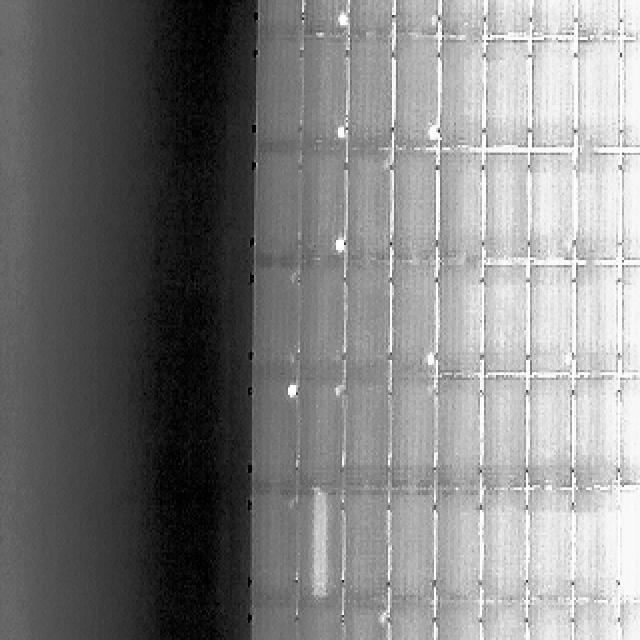Hotspots: (310, 492, 330, 600), (425, 11, 446, 39), (331, 119, 350, 141), (282, 382, 299, 404), (333, 8, 350, 30), (332, 235, 348, 258), (423, 348, 439, 370), (428, 123, 442, 145), (371, 606, 390, 622), (337, 382, 348, 402)
PV-modules: (295, 264, 344, 381), (342, 378, 392, 490), (296, 378, 346, 490), (434, 264, 482, 380), (475, 485, 523, 601), (571, 153, 620, 266), (390, 487, 438, 602), (570, 267, 618, 382), (394, 36, 442, 150), (345, 38, 393, 152), (342, 151, 390, 265), (480, 376, 528, 490), (351, 264, 397, 382), (256, 34, 302, 152), (295, 492, 343, 605), (302, 38, 350, 151), (436, 490, 483, 605), (392, 264, 438, 381), (255, 152, 302, 266), (481, 153, 529, 264), (393, 151, 440, 264), (253, 378, 300, 491), (573, 39, 619, 154), (484, 38, 531, 150), (531, 153, 578, 265), (572, 490, 618, 604), (436, 152, 482, 266), (532, 39, 578, 153), (528, 490, 574, 604), (254, 268, 300, 381), (478, 266, 524, 379), (437, 376, 483, 489), (530, 266, 576, 379), (528, 376, 574, 489), (438, 36, 484, 148), (391, 378, 437, 490), (572, 376, 618, 488), (298, 152, 344, 264), (253, 494, 299, 606), (350, 486, 394, 603), (290, 605, 390, 640), (495, 601, 562, 640), (618, 488, 640, 602), (618, 265, 640, 377), (618, 375, 640, 487), (620, 38, 640, 150), (620, 152, 640, 262), (384, 600, 434, 640), (526, 600, 574, 640), (294, 602, 344, 640), (478, 602, 527, 640), (484, 0, 530, 40), (570, 601, 617, 640), (256, 0, 304, 38), (530, 0, 578, 38), (430, 602, 478, 640), (438, 0, 484, 38), (250, 602, 296, 640), (392, 0, 440, 35), (572, 0, 620, 35), (352, 0, 398, 35), (304, 0, 350, 35), (343, 606, 389, 640), (616, 600, 640, 640), (620, 0, 640, 40)
